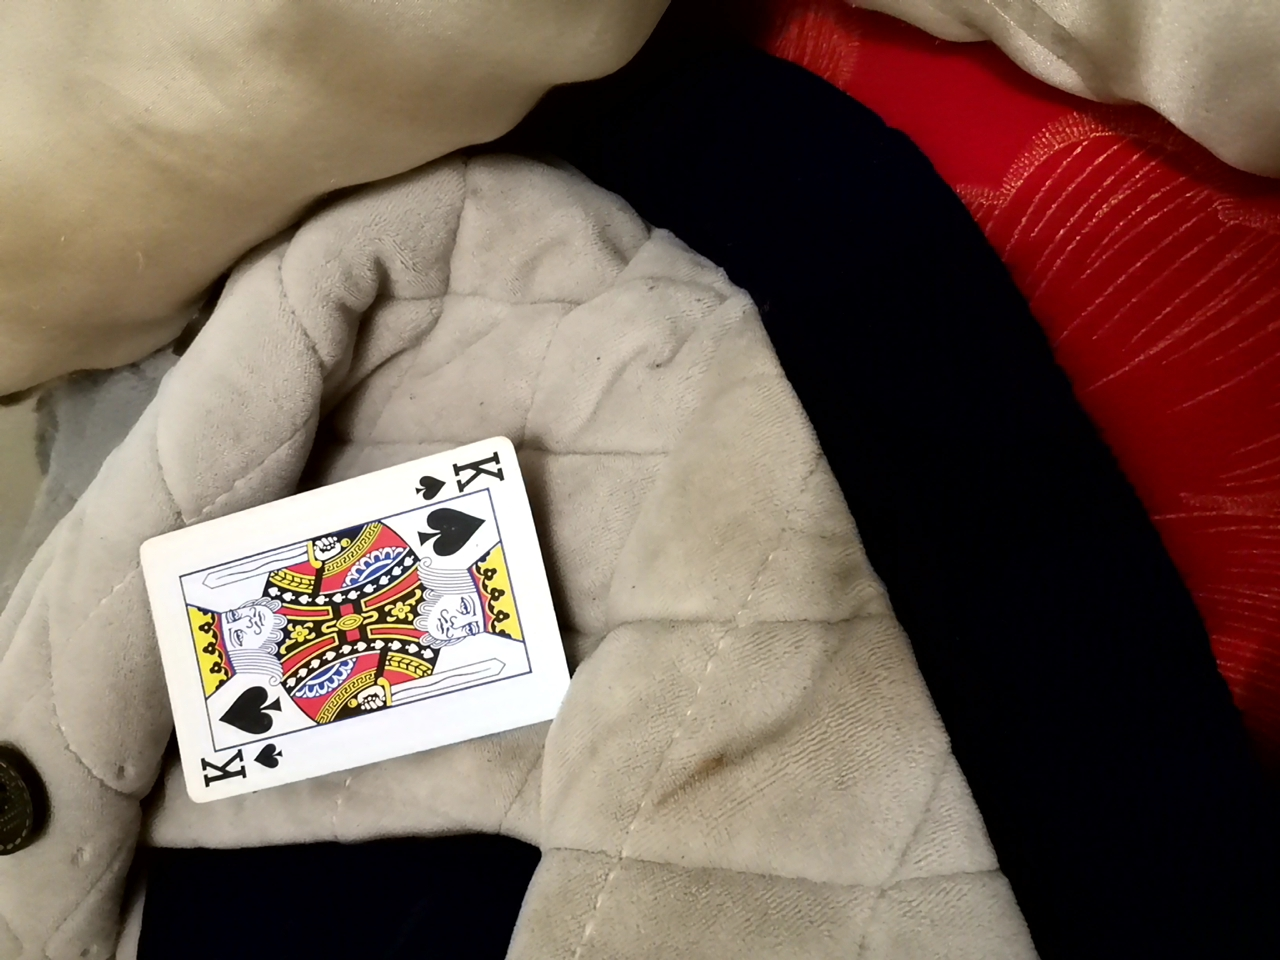ht k: (160, 444, 569, 813)
